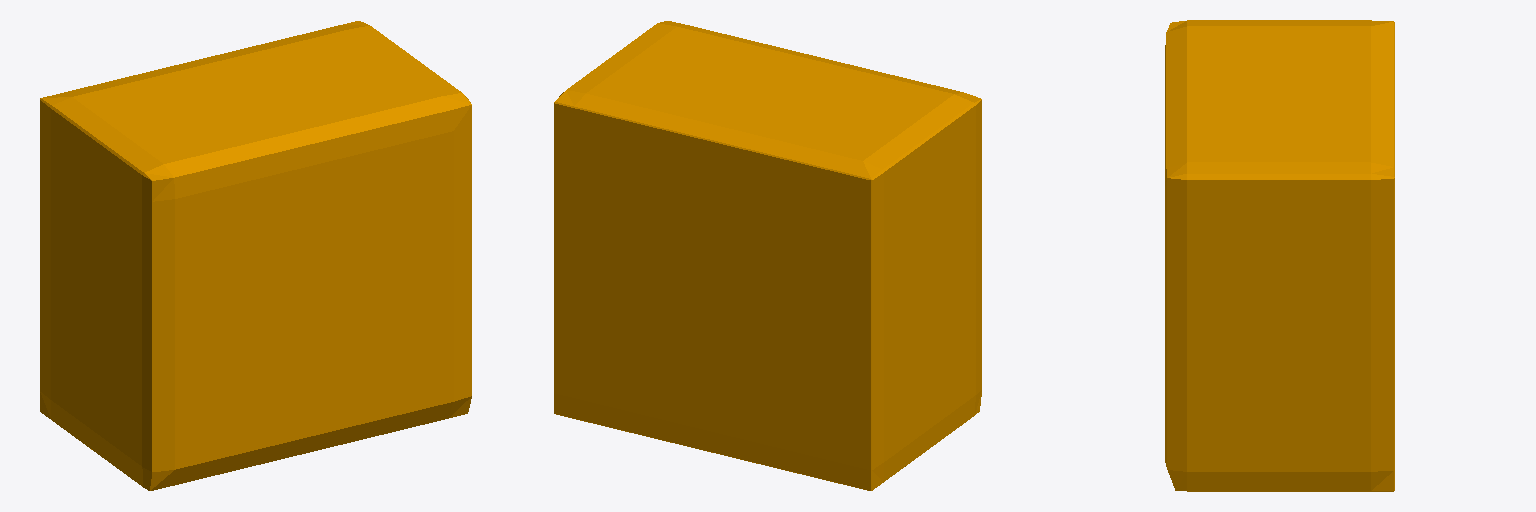
The robot description file, URDF, robot "cylinder_box_90":
<?xml version="1.0" encoding="utf-8"?>  <robot name="cylinder_box_90">   <link name="cylinder_box_90">     <visual>       <geometry>         <mesh filename="../meshes/box/box_90.stl" scale="1 1 1"/>       </geometry>     </visual>     <collision>       <geometry>         <mesh filename="../meshes/box/box_90.stl" scale="1 1 1"/>       </geometry>     </collision>     <inertial>        <origin         xyz="0 0 0"         rpy="0 0 0" />       <mass value="0.30987296663827674"/>       <origin rpy="0 0 0" xyz="0 0 0"/>       <inertia ixx="0.00021421613749989413" ixy="1.352807222861351e-07" ixz="-1.7608568791431937e-07" iyy="0.0003201953363610261" iyz="3.323023990471374e-07" izz="0.00023400984884588193"/>     </inertial>   </link>  </robot>

--- What the picture shows (computed from the rendered views, not written in the file) ---
The picture shows the robot from 3 angles, left to right: view 1: azimuth 30°, elevation 25°; view 2: azimuth 150°, elevation 25°; view 3: azimuth 270°, elevation 25°; orthographic projection.
Robot: cylinder_box_90 — 1 links, 0 joints (none); root link cylinder_box_90; default pose: all joints at 0.
Visible links, largest first — view 1: cylinder_box_90; view 2: cylinder_box_90; view 3: cylinder_box_90.
Link boxes in pixels (x1,y1,x2,y2): cylinder_box_90: (40, 21, 471, 490); cylinder_box_90: (554, 21, 981, 490); cylinder_box_90: (1165, 20, 1394, 491).
Bounding box of the posed robot: 0.0814 × 0.0501 × 0.0766 m (x, y, z).
1 mesh visuals loaded from 1 distinct referenced files (1 binary STL).